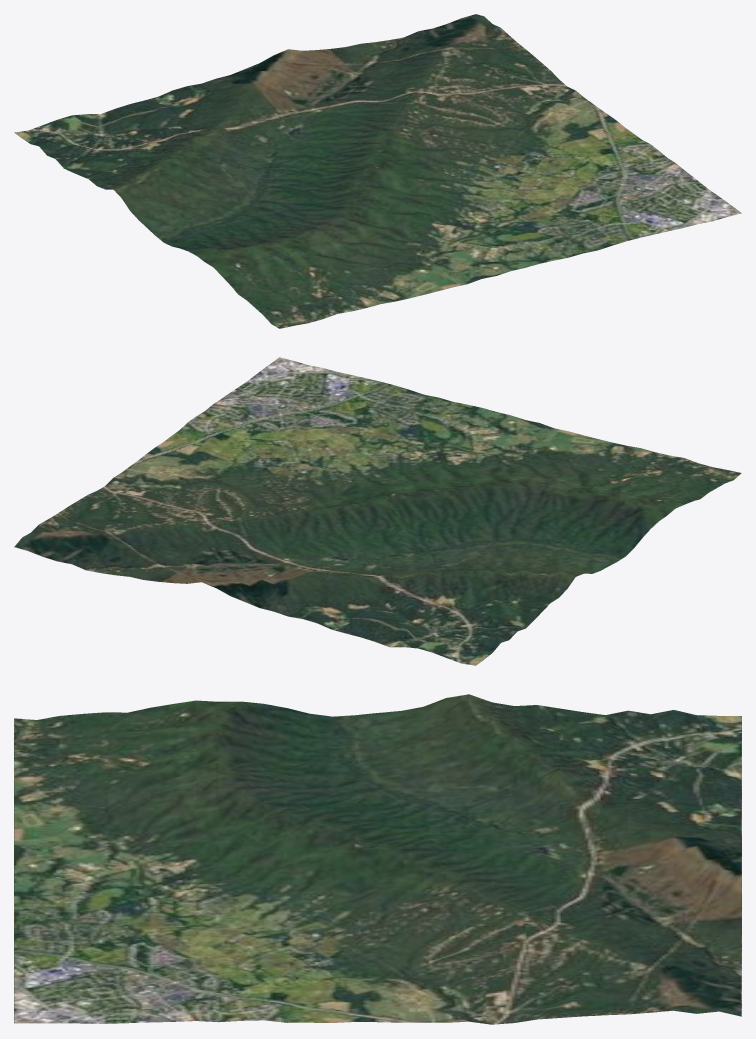
3 renders of one model, top to bottom at view 1: azimuth 30°, elevation 25°; view 2: azimuth 150°, elevation 25°; view 3: azimuth 270°, elevation 25°, orthographic. The views are drawn at different scales.
Bounding box in the file's own units: 7800 × 334 × 7765.
1 material, 1 textured.
